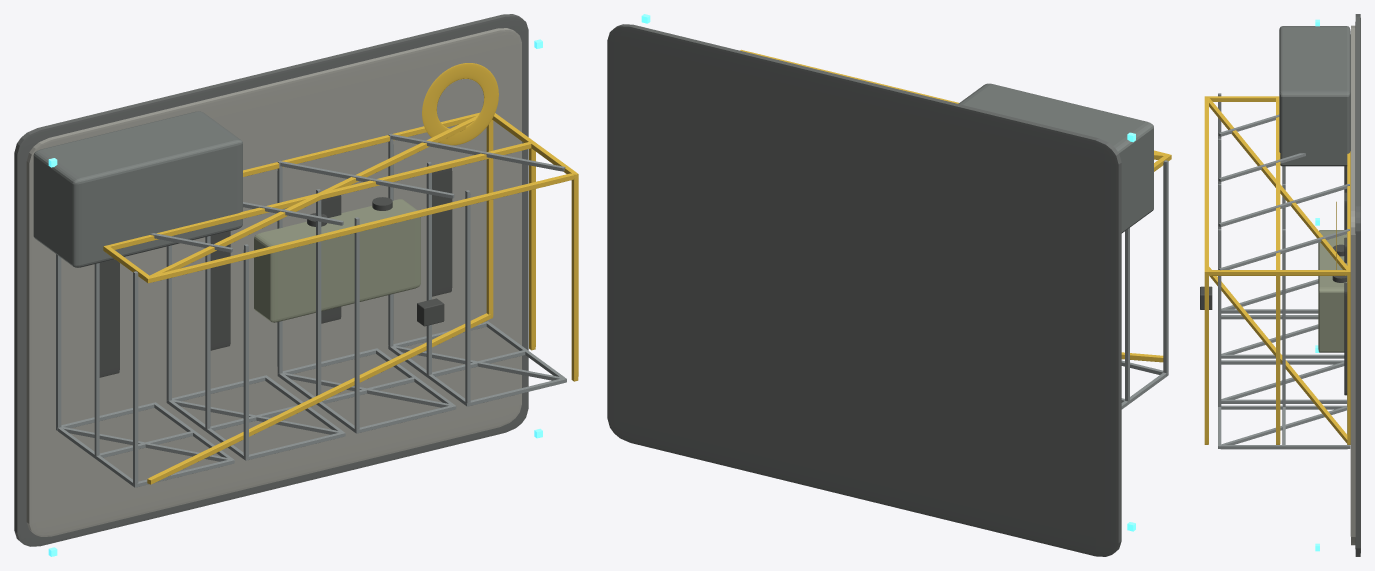
Rendered from b-39-repair-depot-lod2.glb.
3 views of the same model, side by side, from view 1: azimuth 30°, elevation 25°; view 2: azimuth 150°, elevation 25°; view 3: azimuth 270°, elevation 25° (orthographic). The views are drawn at different scales.
Parts seen in each view (by area): view 1: foundation_inner_pad, workshop_main_hall, foundation, repair_vehicle_hull, service_crane_beam_x_2_n, fuel_tank_ring_low, service_crane_beam_x_1_n, service_crane_brace_b_-3.4, service_pit_0, service_crane_brace_b_3.4, service_pit_3, service_pit_1 (+22 smaller); view 2: foundation, workshop_main_hall, service_bay_frame_0_beam_y_2_w, service_bay_frame_0_beam_y_1_w; view 3: workshop_main_hall, foundation, foundation_inner_pad, repair_vehicle_hull, service_crane_brace_b_3.4, service_crane_brace_b_-3.4, service_crane_beam_x_2_n, service_crane_beam_y_2_e, service_crane_beam_y_1_e, service_crane_column_e_n, service_crane_beam_x_1_n, service_crane_beam_y_0_e (+20 smaller).
Part boxes in pixels (bbox=[...]): foundation_inner_pad: bbox=[26, 28, 521, 536]; workshop_main_hall: bbox=[33, 111, 242, 267]; foundation: bbox=[14, 14, 528, 546]; repair_vehicle_hull: bbox=[254, 199, 420, 322]; service_crane_beam_x_2_n: bbox=[145, 173, 578, 283]; fuel_tank_ring_low: bbox=[422, 63, 498, 145]; service_crane_beam_x_1_n: bbox=[103, 142, 531, 251]; service_crane_brace_b_-3.4: bbox=[147, 313, 491, 484]; service_pit_0: bbox=[99, 259, 119, 377]; service_crane_brace_b_3.4: bbox=[150, 115, 478, 275]; service_pit_3: bbox=[432, 168, 452, 296]; service_pit_1: bbox=[210, 231, 230, 350]; foundation: bbox=[607, 24, 1121, 556]; workshop_main_hall: bbox=[958, 83, 1153, 233]; service_bay_frame_0_beam_y_2_w: bbox=[1163, 160, 1168, 373]; service_bay_frame_0_beam_y_1_w: bbox=[1125, 228, 1129, 401]; workshop_main_hall: bbox=[1279, 26, 1350, 166]; foundation: bbox=[1355, 14, 1360, 556]; foundation_inner_pad: bbox=[1350, 25, 1355, 545]; repair_vehicle_hull: bbox=[1318, 230, 1346, 352]; service_crane_brace_b_3.4: bbox=[1208, 98, 1347, 270]; service_crane_brace_b_-3.4: bbox=[1209, 267, 1347, 443]; service_crane_beam_x_2_n: bbox=[1204, 96, 1208, 275]; service_crane_beam_y_2_e: bbox=[1204, 270, 1208, 444]; service_crane_beam_y_1_e: bbox=[1276, 271, 1280, 444]; service_crane_column_e_n: bbox=[1208, 270, 1347, 275]; service_crane_beam_x_1_n: bbox=[1276, 98, 1280, 275]; service_crane_beam_y_0_e: bbox=[1347, 270, 1350, 444].
Size of what is drawn, in the model's own units: 18 by 14 by 5.86.
